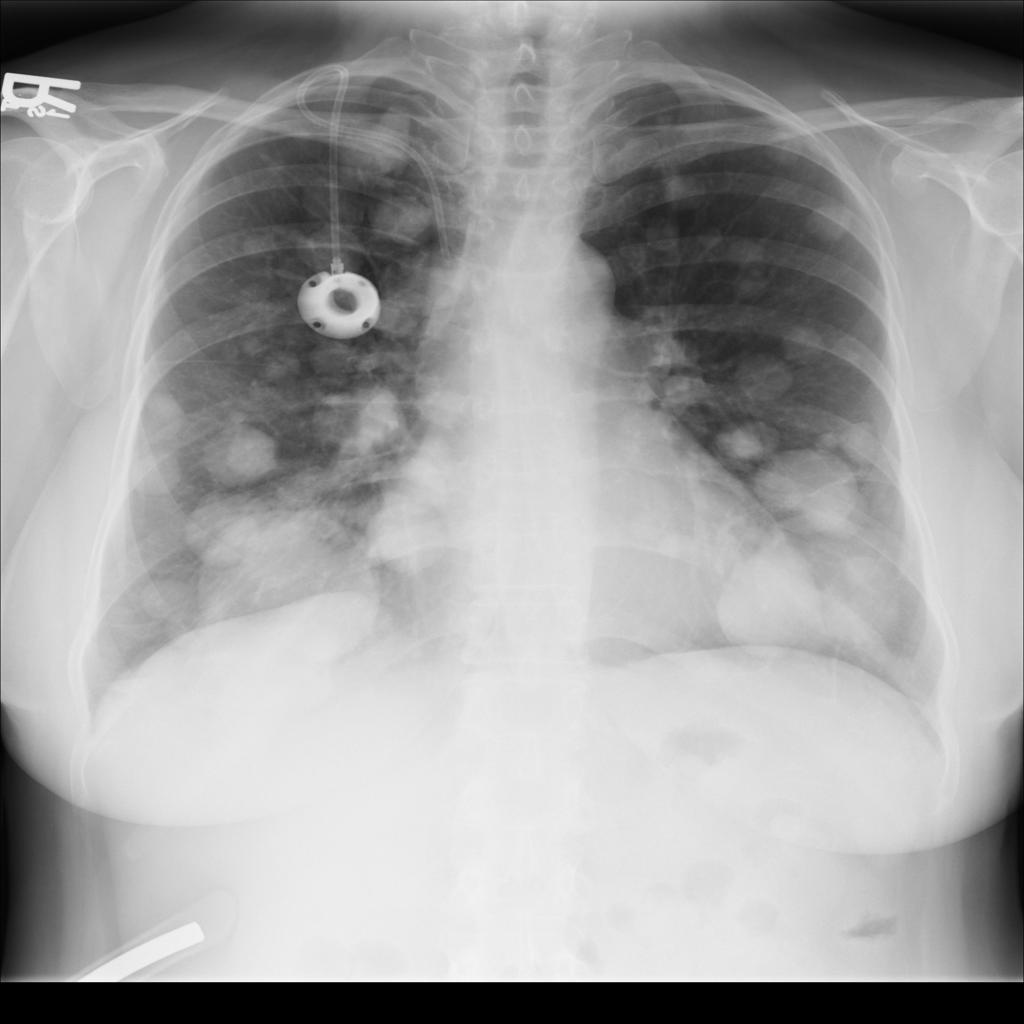nodule: (179, 498, 396, 676), (784, 533, 916, 659), (700, 544, 830, 662), (738, 438, 866, 536), (350, 468, 455, 583), (338, 97, 422, 177), (311, 383, 400, 455), (197, 422, 282, 492), (179, 492, 266, 560), (388, 436, 465, 508), (713, 238, 790, 308), (364, 186, 445, 252), (128, 381, 196, 459), (119, 436, 192, 506), (789, 187, 867, 252), (128, 569, 208, 631), (722, 349, 801, 411), (700, 414, 787, 469), (770, 312, 843, 376), (294, 224, 369, 267), (838, 416, 892, 467), (651, 162, 711, 207), (296, 172, 347, 224), (634, 213, 689, 261), (229, 221, 286, 267), (228, 282, 281, 330), (814, 418, 870, 463), (286, 281, 337, 330), (247, 352, 305, 395), (758, 124, 814, 168), (162, 250, 217, 294), (209, 331, 268, 372)
